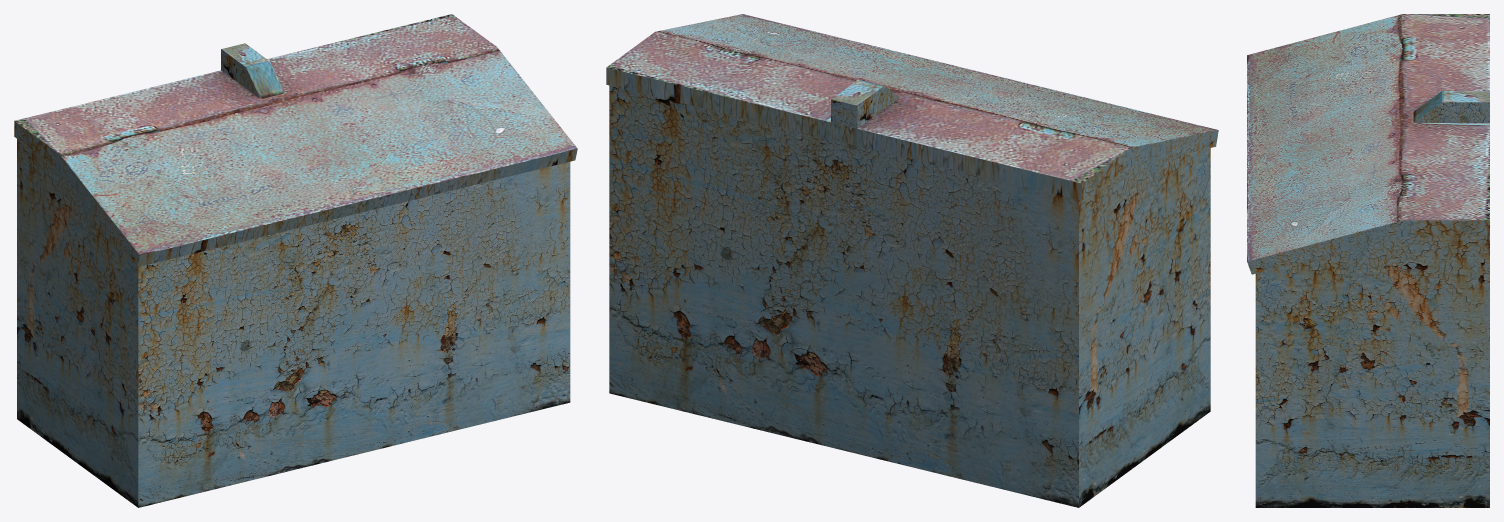
Rendered from TrashBoxIndustry01.FBX.
3 views of the same model, side by side, from view 1: azimuth 30°, elevation 25°; view 2: azimuth 150°, elevation 25°; view 3: azimuth 270°, elevation 25° (orthographic). The views are drawn at different scales.
Visible parts, largest first — view 1: TrashBoxIndustry01; view 2: TrashBoxIndustry01; view 3: TrashBoxIndustry01.
Boxes of the visible parts, x1,y1,x2,y2 form: TrashBoxIndustry01: (14, 14, 577, 507); TrashBoxIndustry01: (606, 14, 1218, 507); TrashBoxIndustry01: (1247, 14, 1489, 507).
Bounding box in the file's own units: 91.39 × 63.89 × 45.44.
